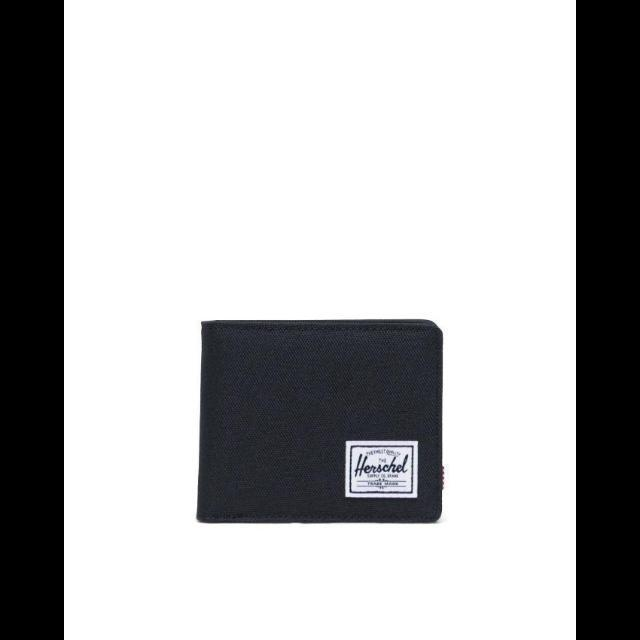wallet: (193, 312, 444, 532)
